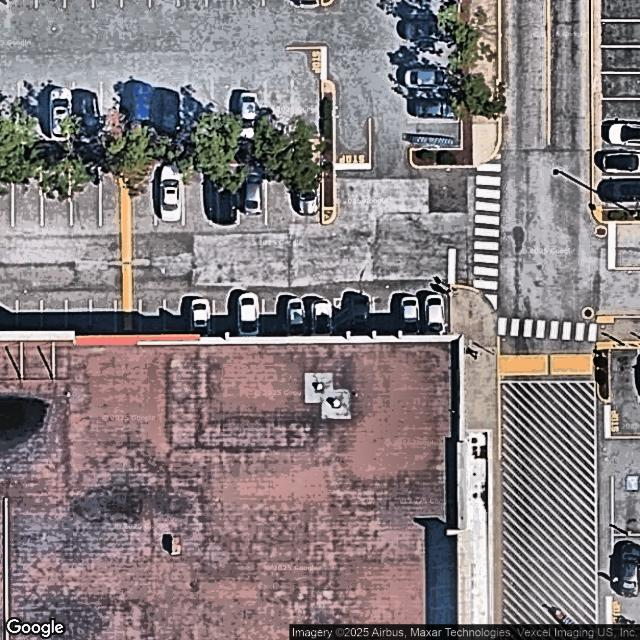car: (50, 82, 74, 139), (616, 540, 640, 596), (236, 93, 260, 139), (162, 165, 182, 220), (601, 148, 640, 176), (604, 174, 640, 204), (603, 122, 640, 147), (244, 171, 264, 215), (238, 294, 260, 334), (298, 176, 320, 215), (426, 295, 446, 335), (352, 296, 370, 334), (313, 299, 330, 337), (402, 297, 419, 335), (193, 296, 210, 333), (288, 297, 304, 334)
lot_boundary: (0, 1, 463, 338), (589, 0, 639, 625)
objects: (321, 80, 336, 225), (408, 147, 464, 168), (595, 348, 609, 403), (449, 283, 464, 334), (592, 207, 639, 223)
stall: (229, 77, 266, 137), (20, 83, 52, 146), (153, 76, 187, 134), (263, 78, 294, 139), (400, 17, 458, 49), (185, 75, 215, 134), (290, 80, 320, 138), (70, 167, 100, 224), (212, 78, 239, 140), (184, 165, 212, 224), (99, 78, 128, 134), (156, 166, 184, 224), (293, 163, 321, 221), (406, 119, 462, 148), (613, 534, 639, 595), (241, 162, 267, 223), (125, 77, 154, 131), (213, 166, 240, 224), (614, 475, 639, 536), (14, 170, 41, 226), (44, 167, 71, 223), (610, 348, 638, 401), (73, 82, 99, 139), (269, 163, 294, 221), (47, 85, 73, 140), (129, 167, 155, 222), (405, 47, 461, 71), (403, 94, 454, 119), (0, 87, 23, 140), (601, 146, 639, 177), (601, 19, 639, 49), (603, 172, 640, 202), (237, 294, 264, 335), (400, 0, 459, 18), (602, 46, 639, 74), (602, 72, 638, 100), (603, 120, 639, 148), (89, 299, 115, 335), (307, 296, 330, 336), (406, 69, 450, 89), (190, 297, 213, 334), (397, 295, 420, 332), (373, 295, 395, 333), (603, 99, 639, 122), (18, 299, 43, 331), (601, 0, 639, 21), (351, 297, 373, 333), (142, 299, 165, 333), (264, 296, 284, 335), (285, 296, 305, 335), (214, 297, 235, 334), (168, 296, 188, 334), (424, 295, 444, 333), (68, 299, 91, 332), (0, 180, 15, 230), (44, 301, 68, 330), (0, 298, 18, 331)
